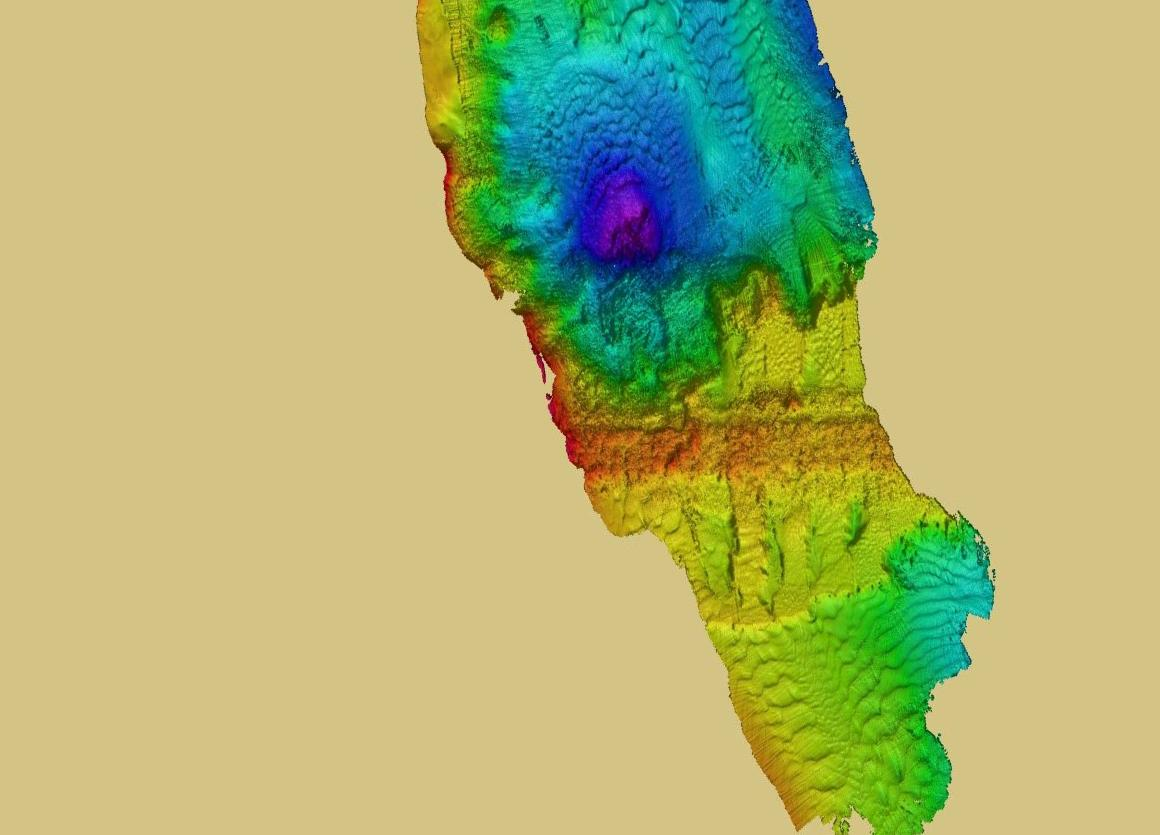Dune: (678, 621, 1013, 804), (533, 73, 694, 159), (682, 3, 780, 143)
Scarp: (406, 1, 522, 415)
Scour pit: (571, 161, 726, 292)
Submerged dike: (534, 392, 944, 525)
